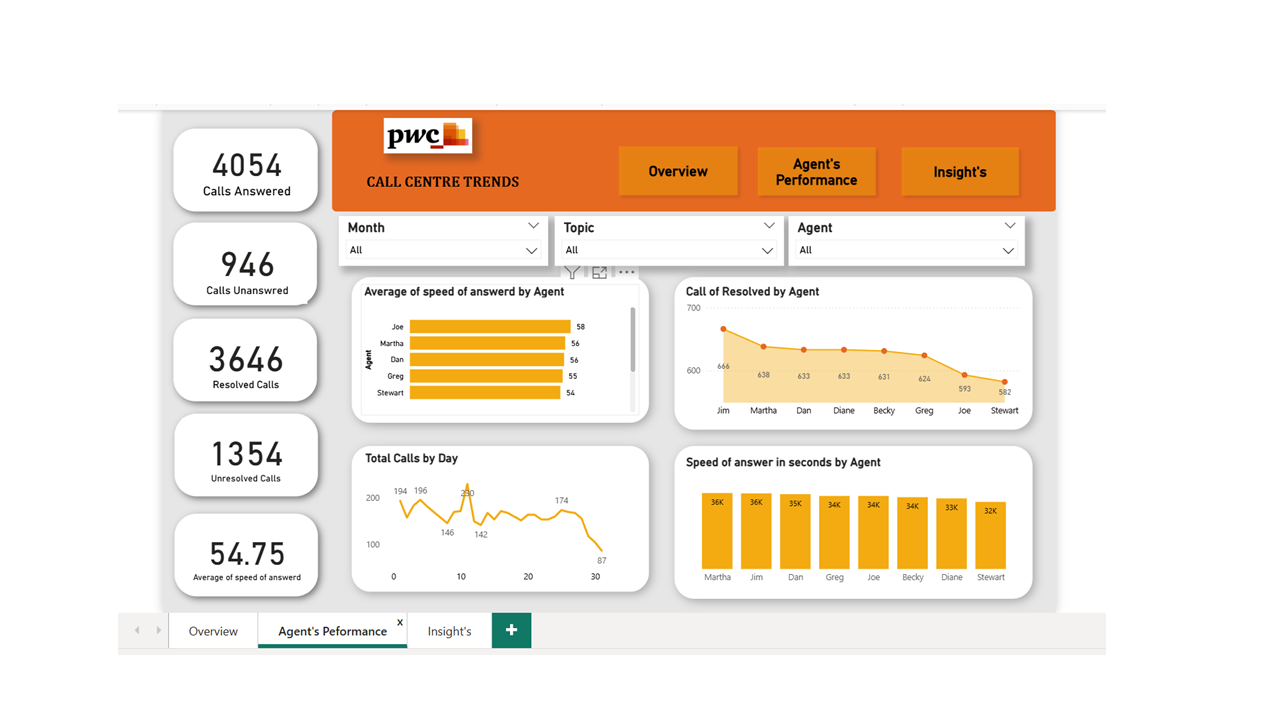

What the dashboard file says about the page in this screenshot:
{"tool":"powerbi","page":{"name":"Agent's Peformance","canvas":[1280,720],"ordinal":1},"visuals":[{"type":"shape","box":[241.4,0,1038.6,145.7],"z":0},{"type":"shape","box":[251.4,220,462.9,245.7],"z":1000},{"type":"barChart","fields":{"Category":["call centre trends.Agent"],"Y":["Table.Average of seed of answerd"]},"box":[284.3,248.6,398.6,188.6],"z":2000},{"type":"shape","box":[714.3,220,550,255.7],"z":3000},{"type":"stackedAreaChart","fields":{"Category":["call centre trends.Agent"],"Y":["CountNonNull(call centre trends.Resolved)"]},"box":[744.3,248.6,491.4,198.6],"z":4000},{"type":"shape","box":[251.4,462.9,462.9,245.7],"z":5000},{"type":"lineChart","title":"Total Calls by Day","fields":{"Y":["Table.total calls"],"Category":["call centre trends.Date.Variation.Date Hierarchy.Day"]},"box":[285.7,489,397.1,197.1],"z":6000},{"type":"shape","box":[714.3,462.9,550,255.7],"z":7000},{"type":"columnChart","fields":{"Y":["Sum(call centre trends.Speed of answer in seconds)"],"Category":["call centre trends.Agent"]},"box":[744.3,494.3,491.4,192.9],"z":8000},{"type":"slicer","fields":{"Values":["call centre trends.Date.Variation.Date Hierarchy.Month"]},"box":[251.4,151.4,300,71.4],"z":9000},{"type":"slicer","fields":{"Values":["call centre trends.Topic"]},"box":[562,151.4,328.6,71.4],"z":10000},{"type":"slicer","fields":{"Values":["call centre trends.Agent"]},"box":[897.1,151.4,338.6,71.4],"z":11000},{"type":"shape","box":[1.7,563.5,235.7,148.6],"z":12000},{"type":"shape","box":[1.4,420,235.7,148.6],"z":13000},{"type":"shape","box":[-0.6,283.5,235.7,148.6],"z":14000},{"type":"shape","box":[-0.6,146,235.7,148.6],"z":15000},{"type":"shape","box":[-0.6,11.4,237,149],"z":16000},{"type":"card","fields":{"Values":["Table.total calls answered"]},"box":[34.3,34.3,171.4,97.1],"z":17000},{"type":"card","fields":{"Values":["Table.total calls unanswred"]},"box":[33.7,169.1,172.9,108.6],"z":18000},{"type":"card","fields":{"Values":["Sum(Table.resolved calls)"]},"box":[35.1,303.1,165.7,108.6],"z":19000},{"type":"card","fields":{"Values":["Table.Unresolved calls"]},"box":[27.1,441.7,182.9,104.3],"z":20000},{"type":"card","fields":{"Values":["Table.Average of seed of answerd"]},"box":[36,586,168.6,101.4],"z":21000},{"type":"actionButton","box":[645.2,43.4,188.1,88],"z":22000},{"type":"actionButton","box":[843,44.6,186.9,86.8],"z":23000},{"type":"actionButton","box":[1049.2,44.6,185.7,86.8],"z":24000},{"type":"textbox","box":[285.8,85.6,254.5,45.8],"z":25000},{"type":"image","box":[317.2,10.9,126.6,50.7],"z":26000}]}

Visuals, with their boxes on the page's 1280x720 design canvas (x1, y1, x2, y2). These are canvas units, not pixel positions in the 1280x720 screenshot, which may show the page scaled, cropped or inside an application window:
shape: 241 0 1280 146
shape: 251 220 714 466
barChart - call centre trends.Agent x Table.Average of seed of answerd: 284 249 683 437
shape: 714 220 1264 476
stackedAreaChart - call centre trends.Agent x CountNonNull(call centre trends.Resolved): 744 249 1236 447
shape: 251 463 714 709
"Total Calls by Day" lineChart: 286 489 683 686
shape: 714 463 1264 719
columnChart - Sum(call centre trends.Speed of answer in seconds) x call centre trends.Agent: 744 494 1236 687
slicer - call centre trends.Date.Variation.Date Hierarchy.Month: 251 151 551 223
slicer - call centre trends.Topic: 562 151 891 223
slicer - call centre trends.Agent: 897 151 1236 223
shape: 2 564 237 712
shape: 1 420 237 569
shape: -1 284 235 432
shape: -1 146 235 295
shape: -1 11 236 160
card - Table.total calls answered: 34 34 206 131
card - Table.total calls unanswred: 34 169 207 278
card - Sum(Table.resolved calls): 35 303 201 412
card - Table.Unresolved calls: 27 442 210 546
card - Table.Average of seed of answerd: 36 586 205 687
actionButton: 645 43 833 131
actionButton: 843 45 1030 131
actionButton: 1049 45 1235 131
textbox: 286 86 540 131
image: 317 11 444 62
